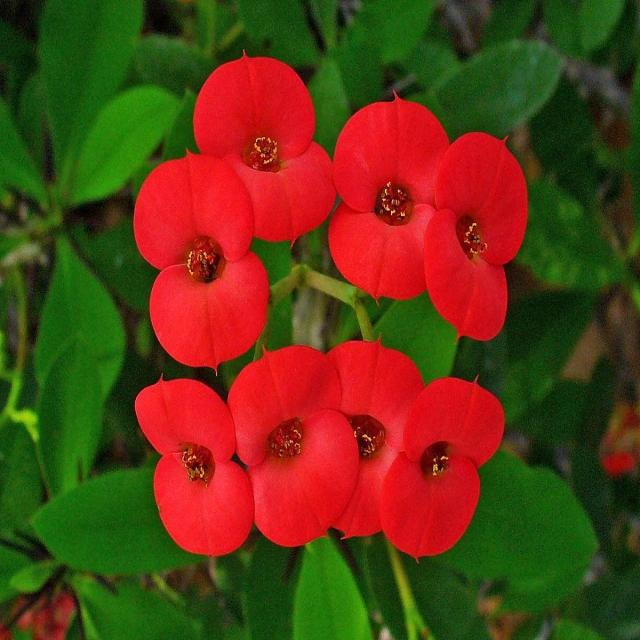organic waste: (130, 151, 284, 360), (190, 41, 349, 242), (330, 84, 466, 303), (228, 334, 354, 549), (128, 374, 258, 561), (384, 373, 507, 563), (322, 326, 426, 533), (430, 124, 520, 345)
